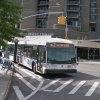Bus: (17, 31, 81, 82)
